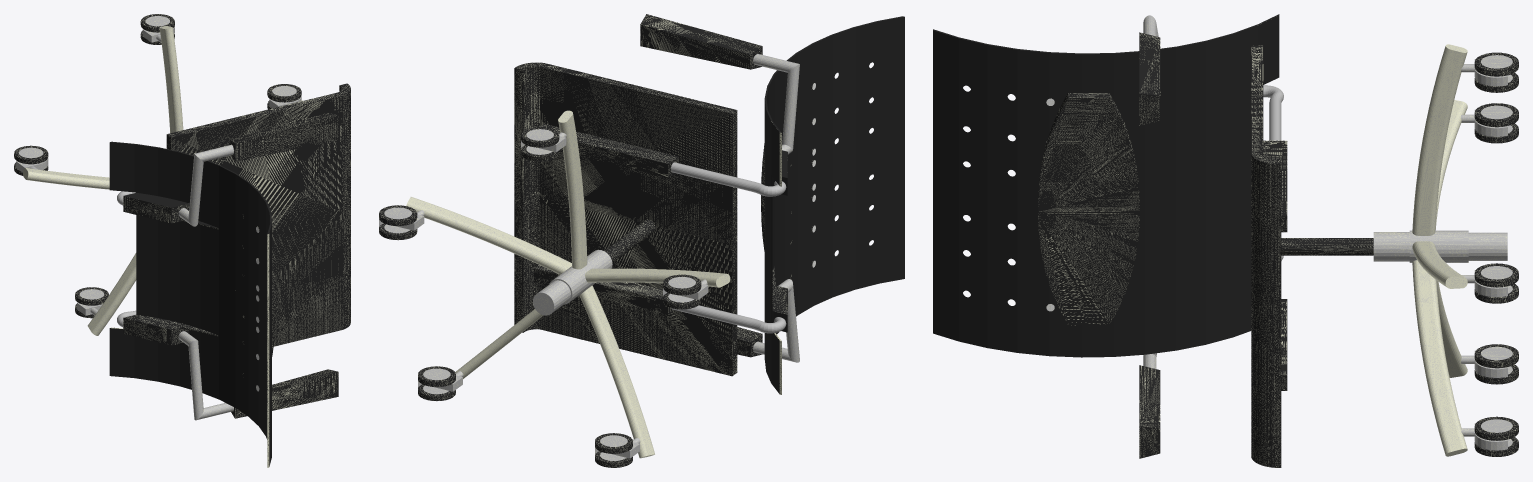
The picture shows the model from 3 angles, left to right: view 1: azimuth 30°, elevation 25°; view 2: azimuth 150°, elevation 25°; view 3: azimuth 270°, elevation 25°; orthographic projection. The views are drawn at different scales.
Parts seen in each view (by area): view 1: desk chair; view 2: desk chair; view 3: desk chair.
Boxes of the visible parts, box(x1,y1,x2,y2) form: desk chair: box(14, 14, 350, 467); desk chair: box(379, 14, 904, 467); desk chair: box(933, 14, 1518, 467).
Bounding box in the file's own units: 28.77 × 27.73 × 38.62.
